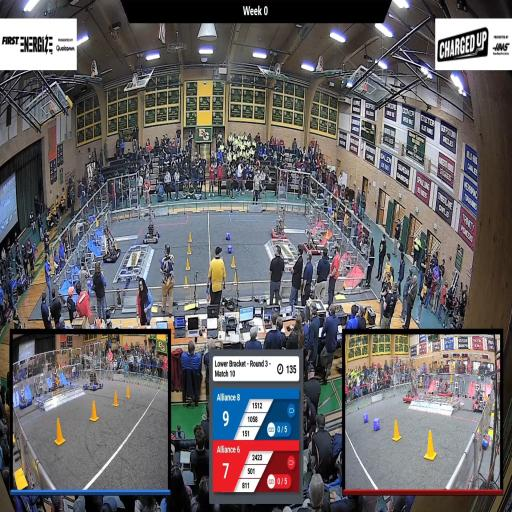robot: (100, 227, 122, 265), (86, 263, 107, 298), (270, 207, 290, 241), (142, 214, 162, 246), (303, 228, 322, 258)
